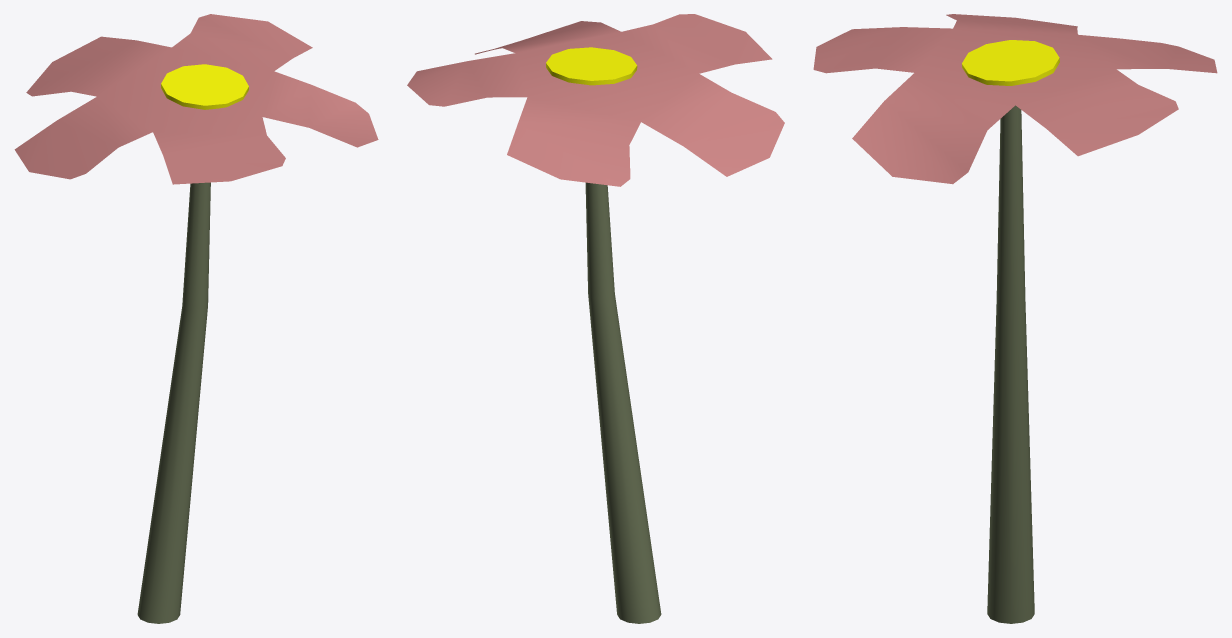
Rendered from roze bloem.fbx.
3 views of the same model, side by side, from view 1: azimuth 30°, elevation 25°; view 2: azimuth 150°, elevation 25°; view 3: azimuth 270°, elevation 25° (orthographic). The views are drawn at different scales.
Parts seen in each view (by area): view 1: polySurface141; view 2: polySurface141; view 3: polySurface141.
Part boxes in pixels (bbox=[...]): polySurface141: bbox=[14, 14, 378, 623]; polySurface141: bbox=[407, 14, 784, 623]; polySurface141: bbox=[813, 14, 1217, 623].
Size of the model in its own units: 0.2732 by 0.4364 by 0.2749.
